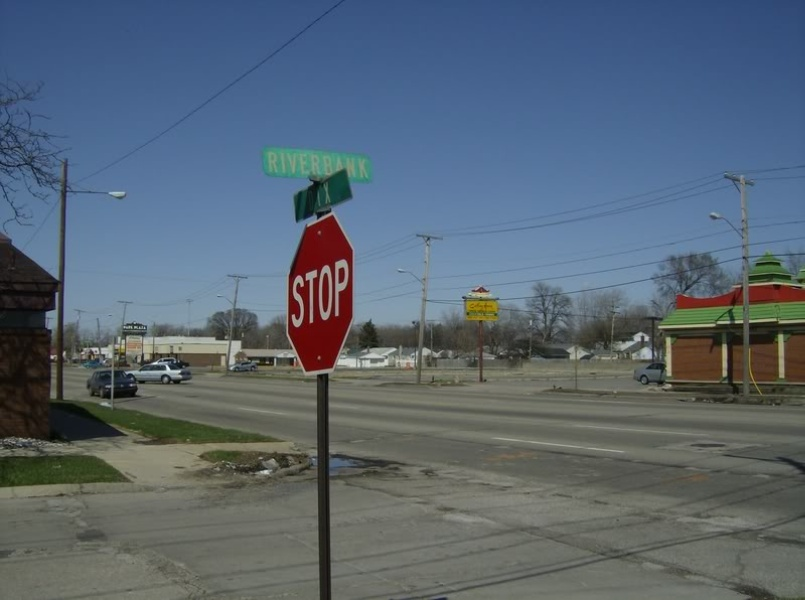text: (305, 256, 320, 331), (321, 256, 336, 331), (337, 256, 349, 331), (293, 256, 304, 331), (353, 149, 369, 180), (273, 149, 288, 180), (289, 149, 304, 180), (305, 149, 320, 180), (321, 149, 336, 180), (337, 149, 352, 180), (307, 181, 320, 213), (321, 181, 333, 213), (267, 149, 272, 180), (468, 301, 480, 310), (481, 301, 493, 310), (129, 324, 144, 331), (123, 324, 128, 331), (145, 324, 147, 331)
